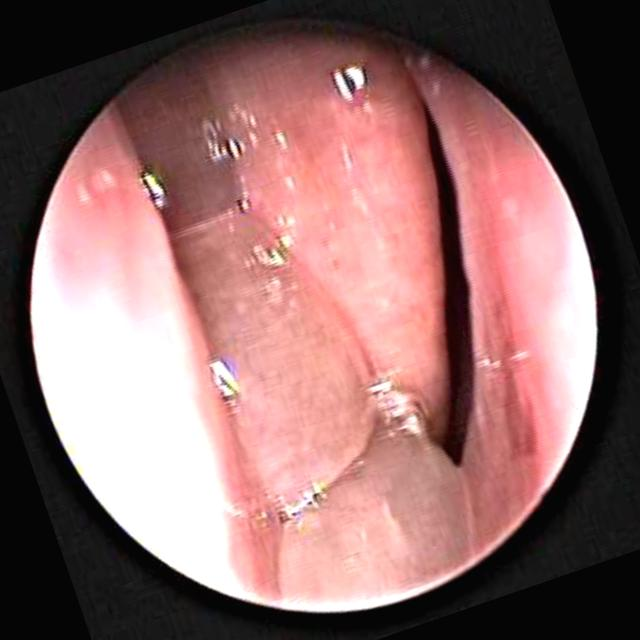OPENING: (117, 37, 251, 209)
POLYPS: (143, 238, 318, 549), (268, 421, 471, 611)
